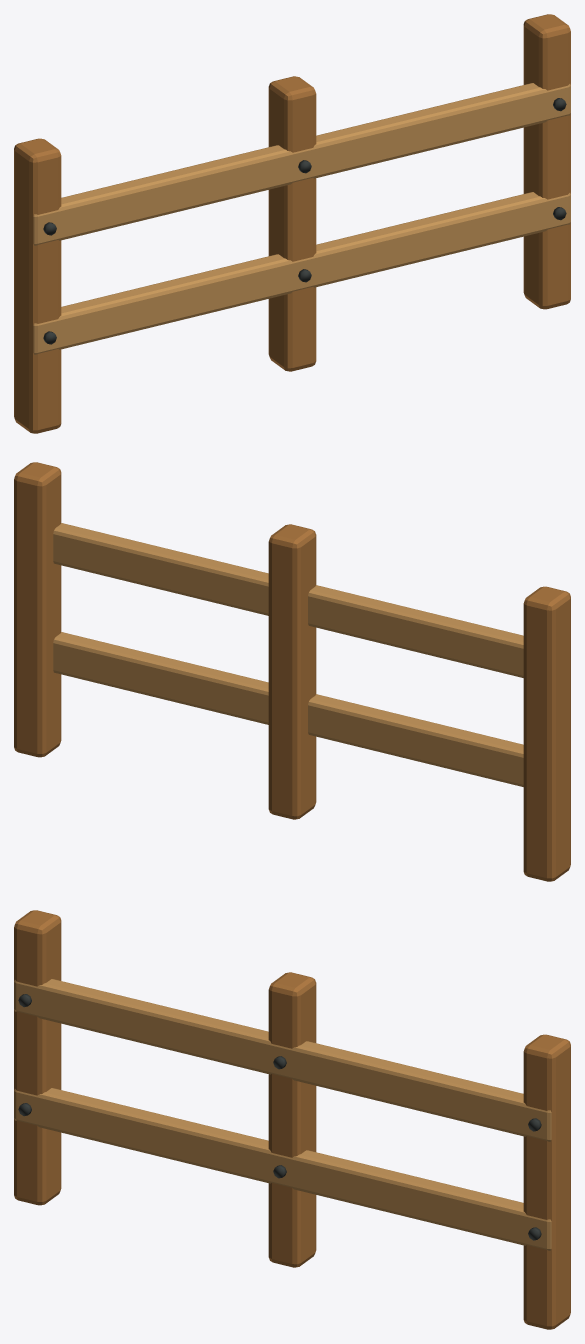
The model's file is 09_wooden_fence.glb.
3 views of the same model, one above another, from view 1: azimuth 30°, elevation 25°; view 2: azimuth 150°, elevation 25°; view 3: azimuth 330°, elevation 25° (orthographic).
Visible parts, largest first — view 1: Fence rail.001, Fence rail, Fence post, Fence post.001, Fence post.002; view 2: Fence rail, Fence rail.001, Fence post, Fence post.001, Fence post.002; view 3: Fence rail.001, Fence rail, Fence post.002, Fence post.001, Fence post.
Boxes of the visible parts, bbox=[...] form: Fence rail.001: bbox=[33, 83, 570, 245]; Fence rail: bbox=[33, 192, 570, 354]; Fence post: bbox=[14, 138, 61, 433]; Fence post.001: bbox=[268, 76, 316, 371]; Fence post.002: bbox=[523, 14, 570, 309]; Fence rail: bbox=[53, 632, 523, 786]; Fence rail.001: bbox=[53, 523, 523, 677]; Fence post: bbox=[523, 586, 570, 881]; Fence post.001: bbox=[268, 524, 316, 819]; Fence post.002: bbox=[14, 462, 61, 757]; Fence rail.001: bbox=[14, 979, 551, 1141]; Fence rail: bbox=[14, 1088, 551, 1250]; Fence post.002: bbox=[523, 1034, 570, 1329]; Fence post.001: bbox=[268, 972, 316, 1267]; Fence post: bbox=[14, 910, 61, 1205].
Bounding box in the file's own units: 2.39 × 1.18 × 0.186.
